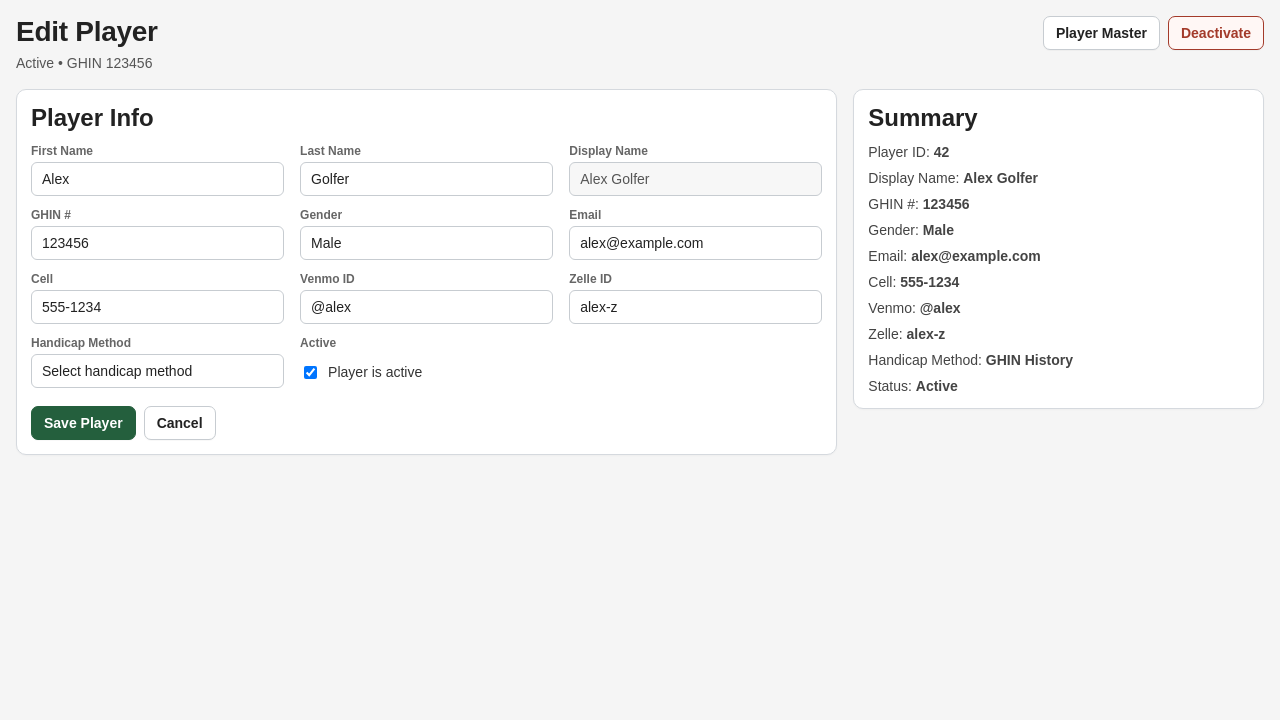
Player edit page characterization (before extraction) › saves an existing player with normalized values
Check: the heading "Player Info" is shown, box [31,104,154,131]
Replace the text in the field below "First Name" with "  Taylor  ". click: (158, 179)
box: [31,162,284,196]
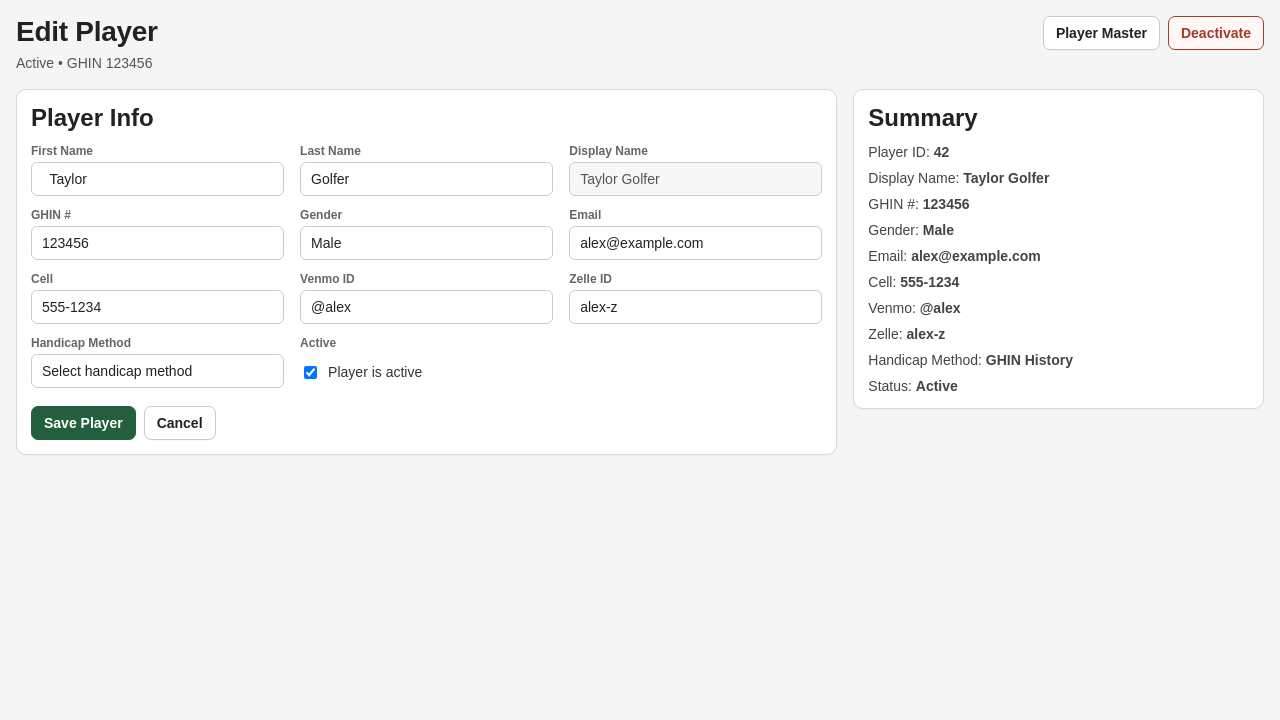
Replace the text in the 5th field with "  taylor@example.com  ". click: (696, 243)
box: [569,226,822,260]
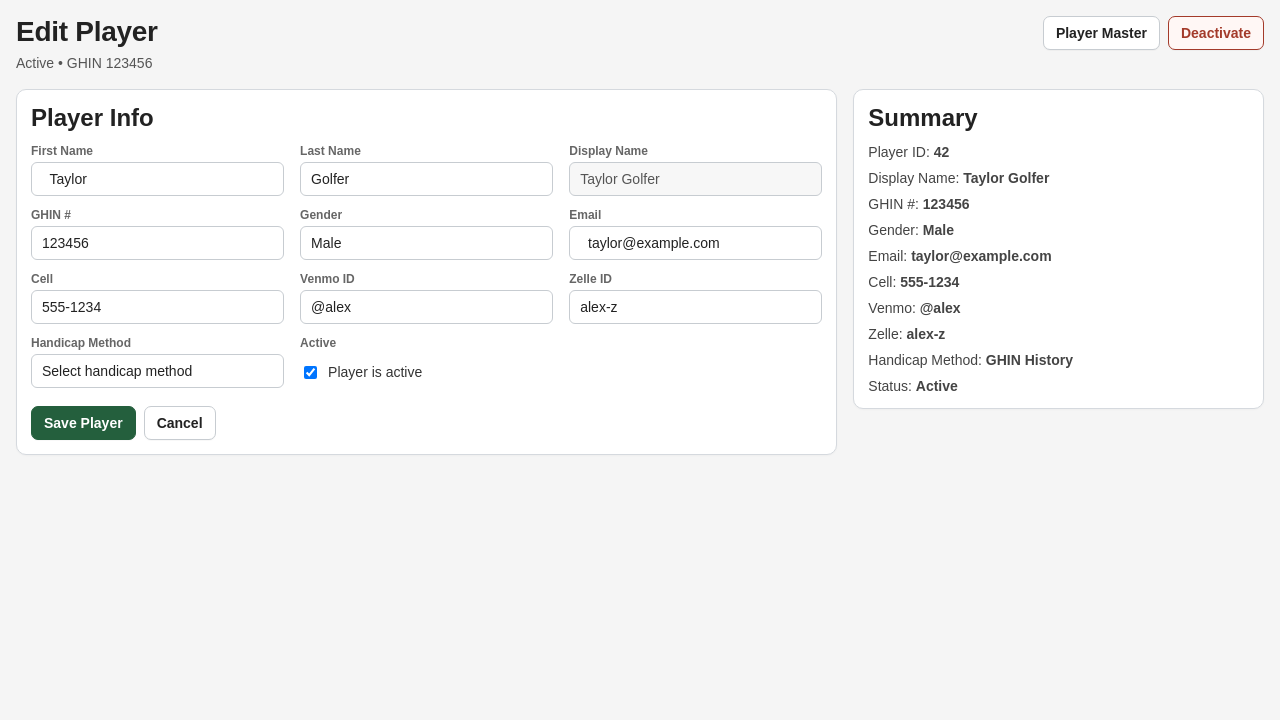
Click the button "Save Player". click: (83, 423)
box: [31,406,136,440]
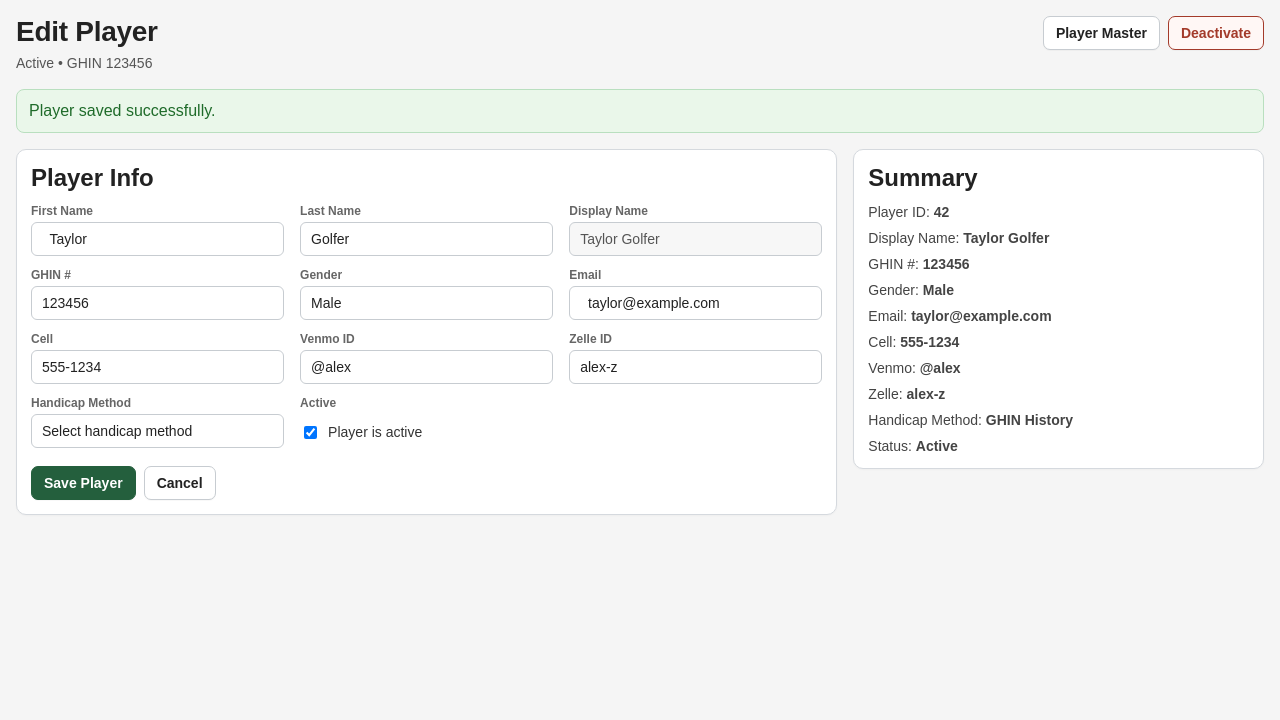
Check: the text "Player saved successfully." is shown, box [16,89,1264,133]
